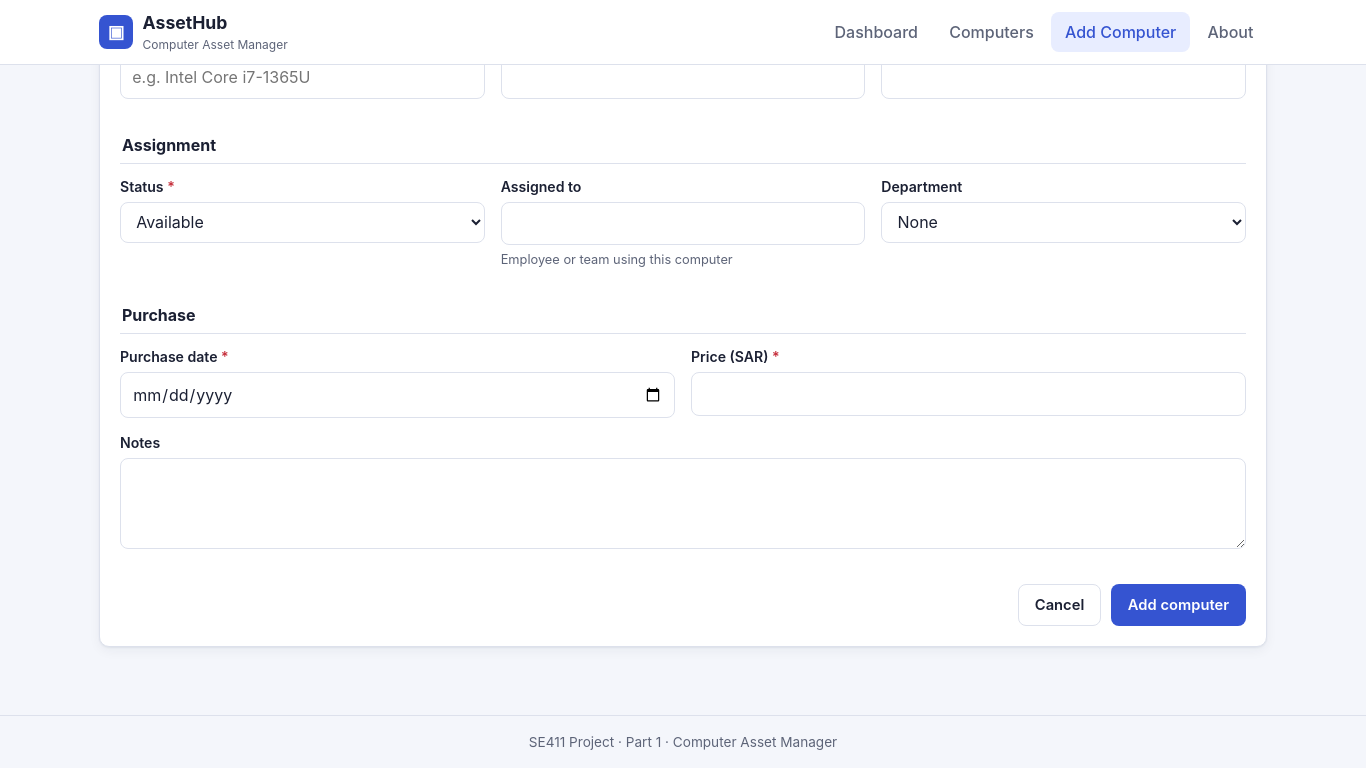
Scenario: add computer › clears an error once the field is fixed
(page scrolled)
Click the button "Add computer" at [1178, 605], box [1111, 584, 1246, 626]
(page scrolled)
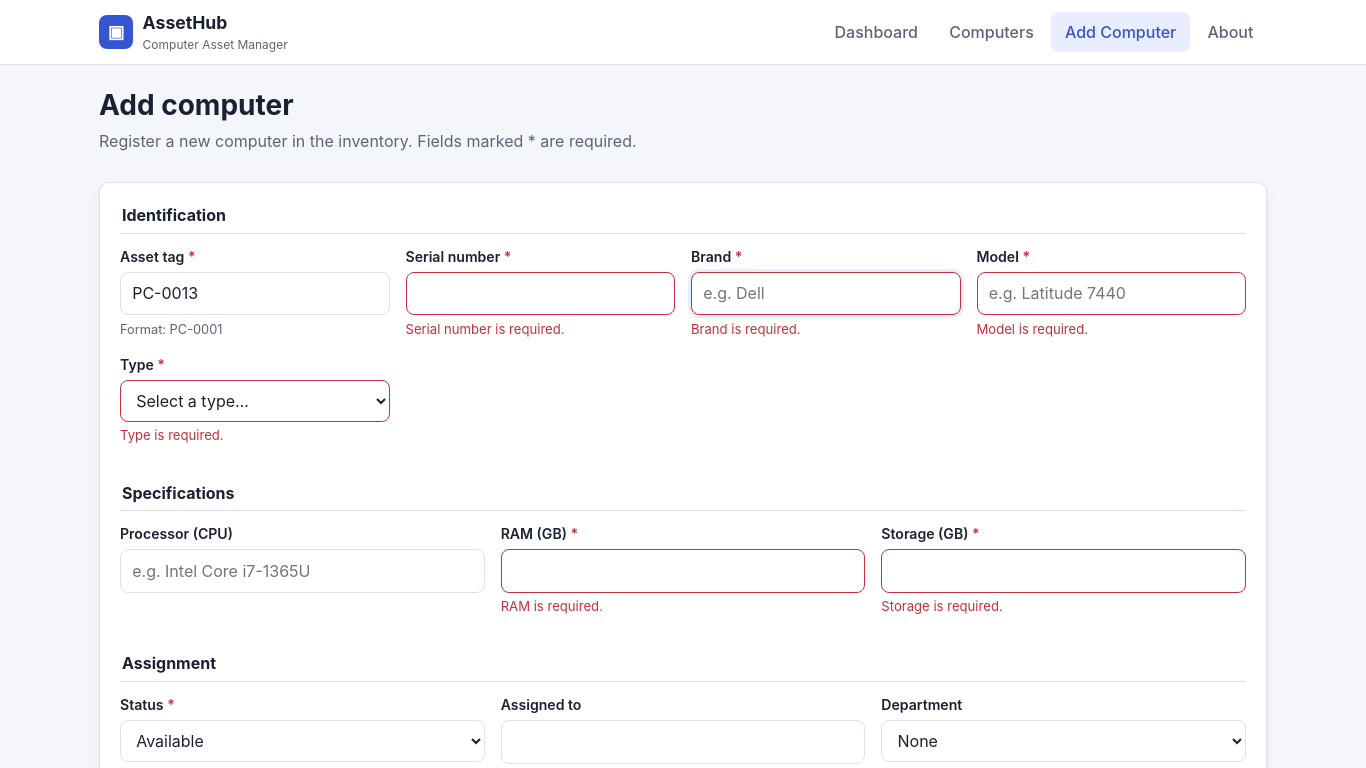
Type "Acer" into the field labelled "Brand *" at [826, 294], box [691, 272, 960, 315]
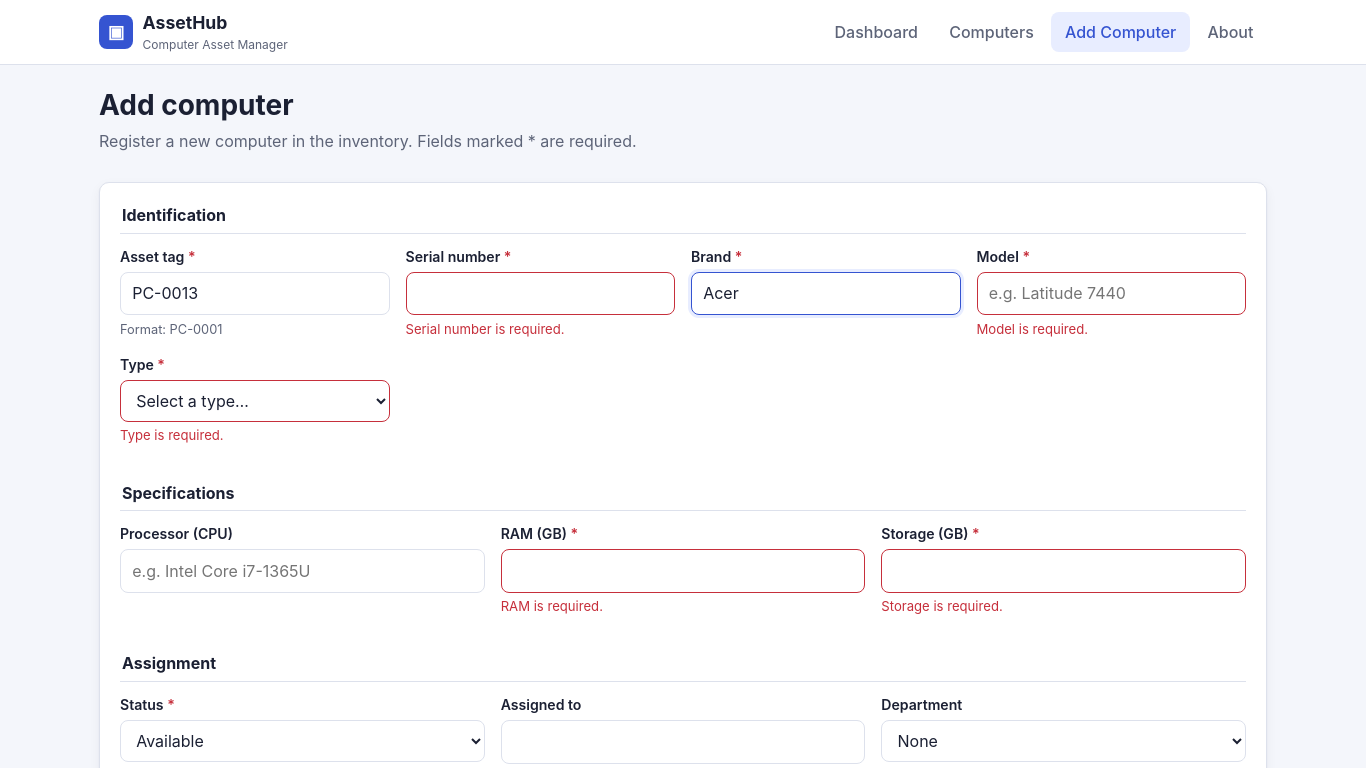
Now the text "Brand is required." is gone
